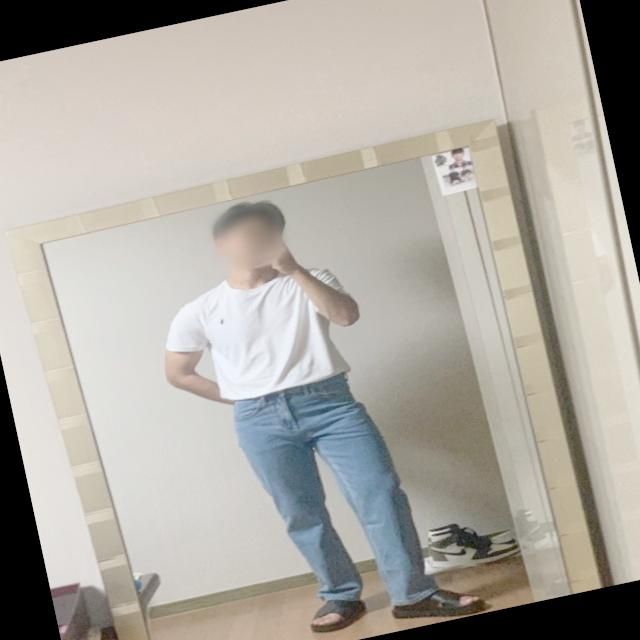denimpants: (224, 364, 441, 633)
shortsleeve: (151, 252, 368, 413)
